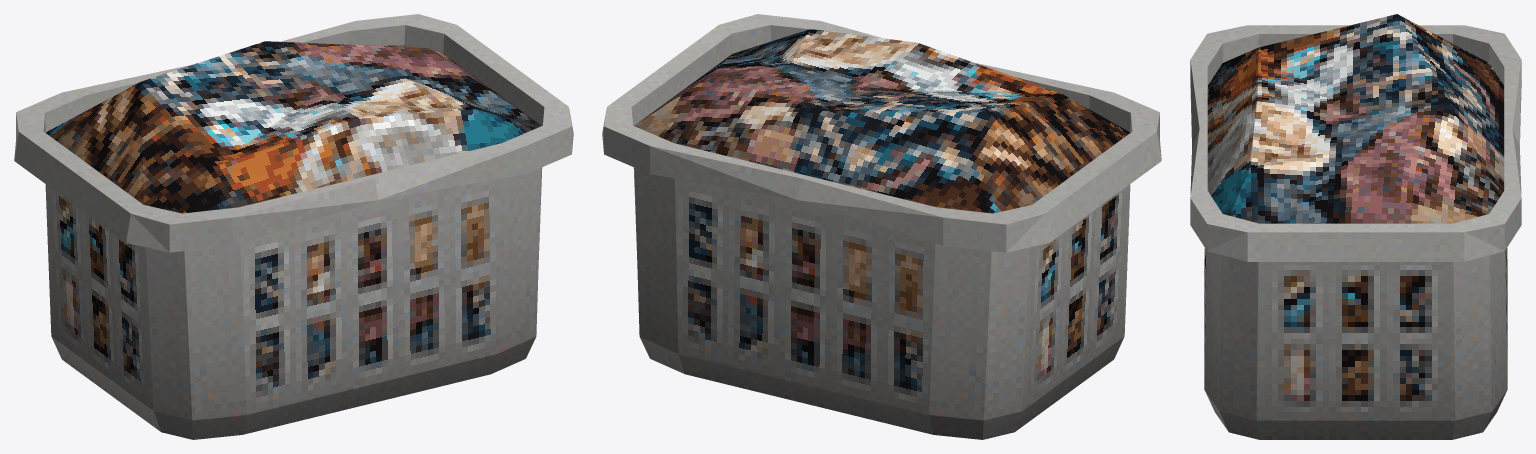
Rendered from laundry-basket_filled.glb.
3 renders of one model, left to right at view 1: azimuth 30°, elevation 25°; view 2: azimuth 150°, elevation 25°; view 3: azimuth 270°, elevation 25°, orthographic. The views are drawn at different scales.
Parts seen in each view (by area): view 1: laundry-basket_filled-col; view 2: laundry-basket_filled-col; view 3: laundry-basket_filled-col.
Boxes of the visible parts, x1,y1,x2,y2 form: laundry-basket_filled-col: (14,14,573,439); laundry-basket_filled-col: (602,14,1161,439); laundry-basket_filled-col: (1190,14,1521,439).
Size of the model in its own units: 0.59 by 0.3732 by 0.39.
Materials: 1 (1 with a texture image).
